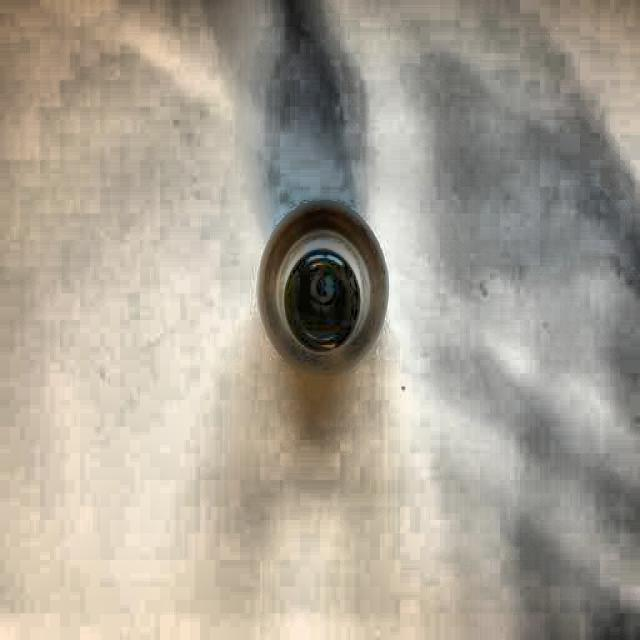glass: (254, 196, 392, 384)
